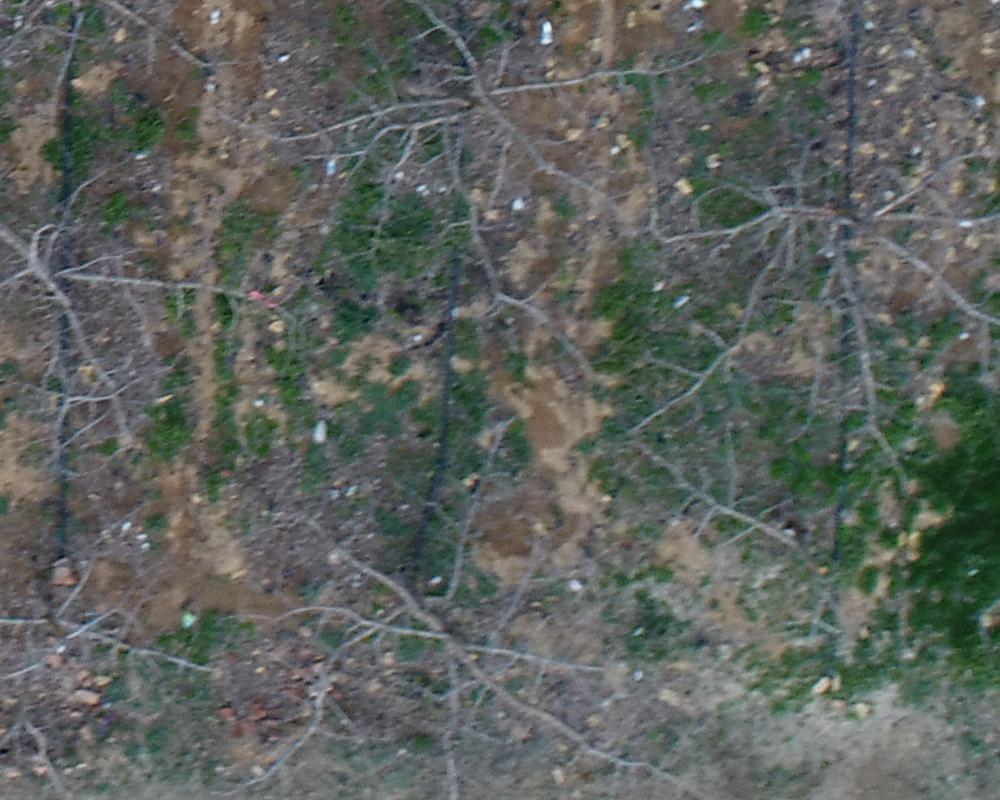apple: (266, 418, 702, 790), (278, 10, 713, 340), (639, 98, 990, 451), (10, 129, 283, 475), (10, 540, 228, 732)
